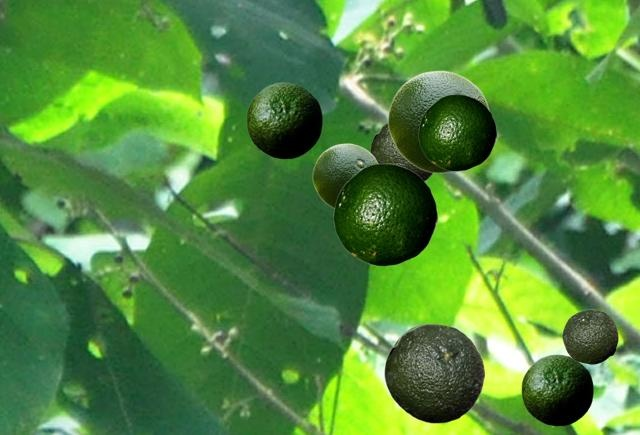calamansi: (333, 163, 437, 265), (387, 70, 490, 172), (384, 324, 484, 422), (418, 94, 496, 170), (246, 82, 321, 158), (521, 354, 592, 425), (312, 143, 378, 208), (370, 123, 433, 180), (562, 309, 617, 363), (393, 323, 437, 345)
